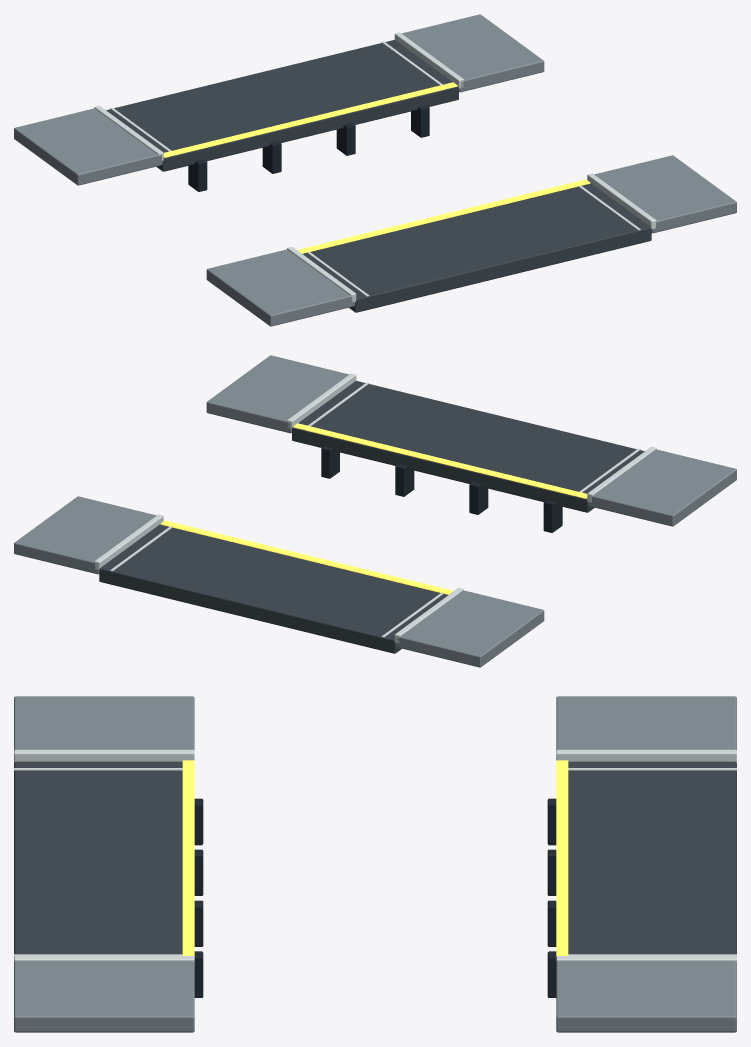
Rendered from Road_Gap12.fbx.
The picture shows the model from 3 angles, top to bottom: view 1: azimuth 30°, elevation 25°; view 2: azimuth 150°, elevation 25°; view 3: azimuth 270°, elevation 25°; orthographic projection. The views are drawn at different scales.
Parts seen in each view (by area): view 1: Road_Deck, Road_Deck.001, Sidewalk.002, Sidewalk, Sidewalk.003, Sidewalk.001, Hazard_Threshold.001, Hazard_Threshold, Curb.003, Curb.001, Bridge_Girder.004, Bridge_Girder.005 (+2 smaller); view 2: Road_Deck.001, Road_Deck, Sidewalk.002, Sidewalk, Sidewalk.001, Sidewalk.003, Hazard_Threshold, Hazard_Threshold.001, Curb.003, Curb.001, Bridge_Girder, Bridge_Girder.001 (+2 smaller); view 3: Road_Deck, Road_Deck.001, Sidewalk.001, Sidewalk.003, Sidewalk, Sidewalk.002, Hazard_Threshold, Hazard_Threshold.001, Curb, Curb.002, Curb.001, Curb.003.
Boxes of the visible parts, bbox=[...] form: Road_Deck: bbox=[302, 183, 651, 312]; Road_Deck.001: bbox=[106, 40, 458, 171]; Sidewalk.002: bbox=[14, 108, 162, 185]; Sidewalk: bbox=[206, 249, 354, 326]; Sidewalk.003: bbox=[401, 14, 544, 92]; Sidewalk.001: bbox=[594, 155, 736, 233]; Hazard_Threshold.001: bbox=[163, 82, 457, 157]; Hazard_Threshold: bbox=[297, 179, 590, 253]; Curb.003: bbox=[394, 32, 463, 88]; Curb.001: bbox=[587, 173, 656, 229]; Bridge_Girder.004: bbox=[188, 159, 207, 191]; Bridge_Girder.005: bbox=[262, 141, 281, 173]; Road_Deck.001: bbox=[99, 524, 448, 653]; Road_Deck: bbox=[292, 381, 644, 512]; Sidewalk.002: bbox=[396, 590, 544, 667]; Sidewalk: bbox=[588, 449, 736, 526]; Sidewalk.001: bbox=[206, 355, 349, 433]; Sidewalk.003: bbox=[14, 496, 156, 574]; Hazard_Threshold: bbox=[293, 423, 587, 498]; Hazard_Threshold.001: bbox=[160, 520, 453, 594]; Curb.003: bbox=[94, 514, 163, 570]; Curb.001: bbox=[287, 373, 356, 429]; Bridge_Girder: bbox=[543, 500, 562, 532]; Bridge_Girder.001: bbox=[469, 482, 488, 514]; Road_Deck: bbox=[14, 761, 182, 954]; Road_Deck.001: bbox=[568, 761, 736, 954]; Sidewalk.001: bbox=[14, 961, 194, 1032]; Sidewalk.003: bbox=[556, 961, 736, 1032]; Sidewalk: bbox=[14, 696, 194, 749]; Sidewalk.002: bbox=[556, 696, 736, 749]; Hazard_Threshold: bbox=[182, 760, 194, 956]; Hazard_Threshold.001: bbox=[556, 760, 568, 956]; Curb: bbox=[14, 749, 194, 762]; Curb.002: bbox=[556, 749, 736, 762]; Curb.001: bbox=[14, 956, 194, 961]; Curb.003: bbox=[556, 956, 736, 961].
Bounding box in the file's own units: 1260 × 118 × 1200.
